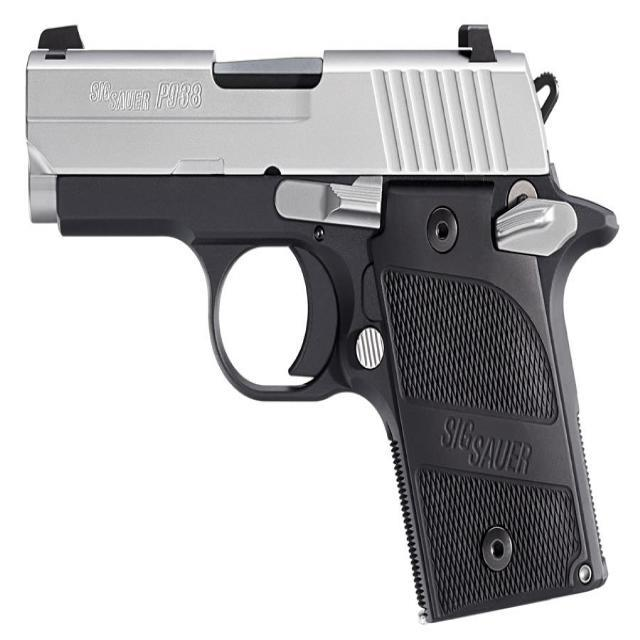Pistol: (16, 5, 637, 638)
